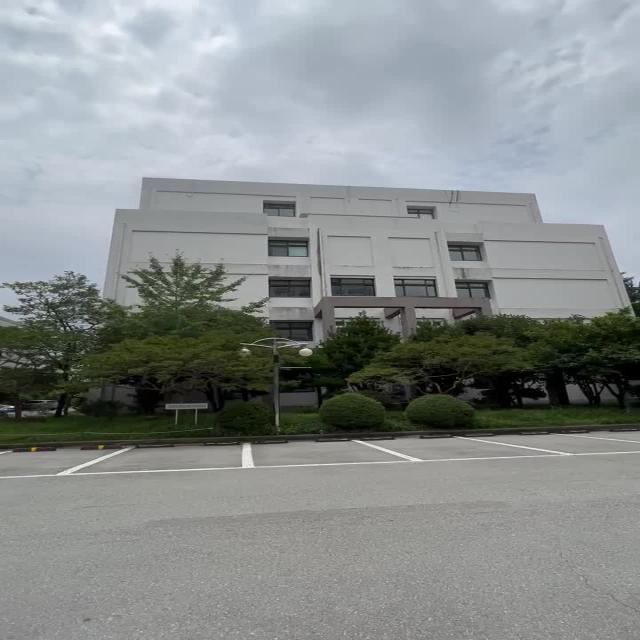building: (87, 163, 629, 325)
